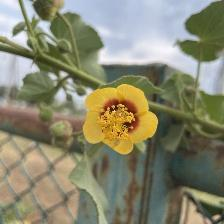indian mallow: (83, 85, 161, 157)
